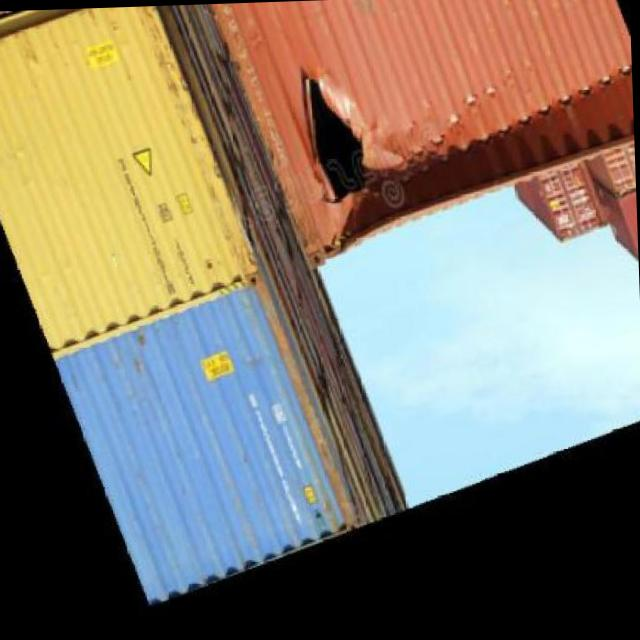Deframe_or_Dent: (296, 127, 534, 269), (386, 59, 621, 196)
Hole: (284, 76, 388, 200)
